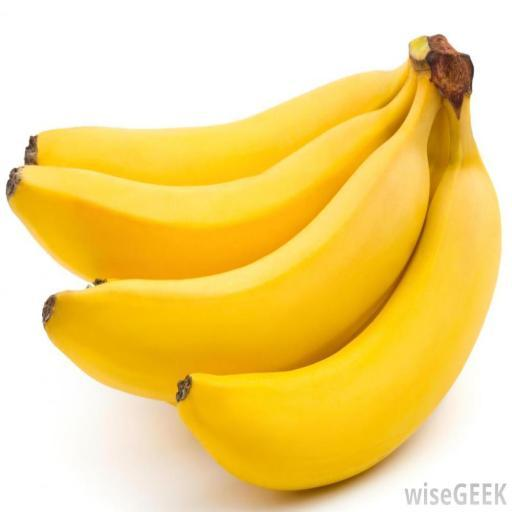banana: (44, 74, 440, 400), (178, 98, 500, 489), (9, 75, 416, 280), (26, 62, 409, 185)
